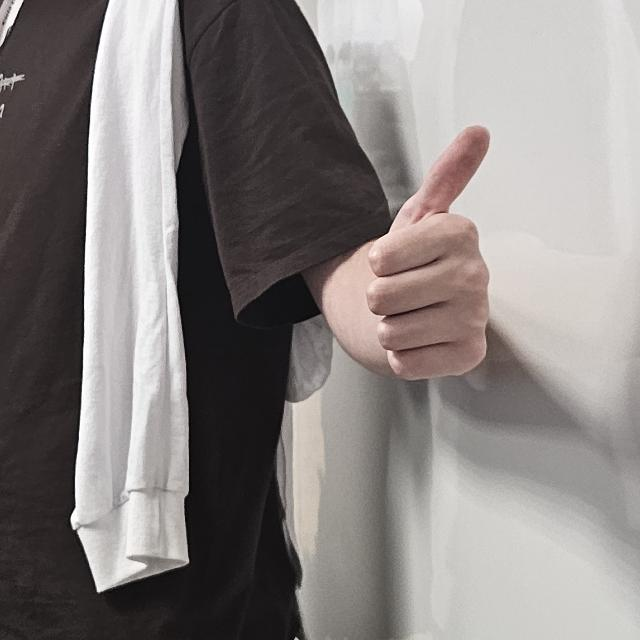Start: (373, 117, 502, 396)
